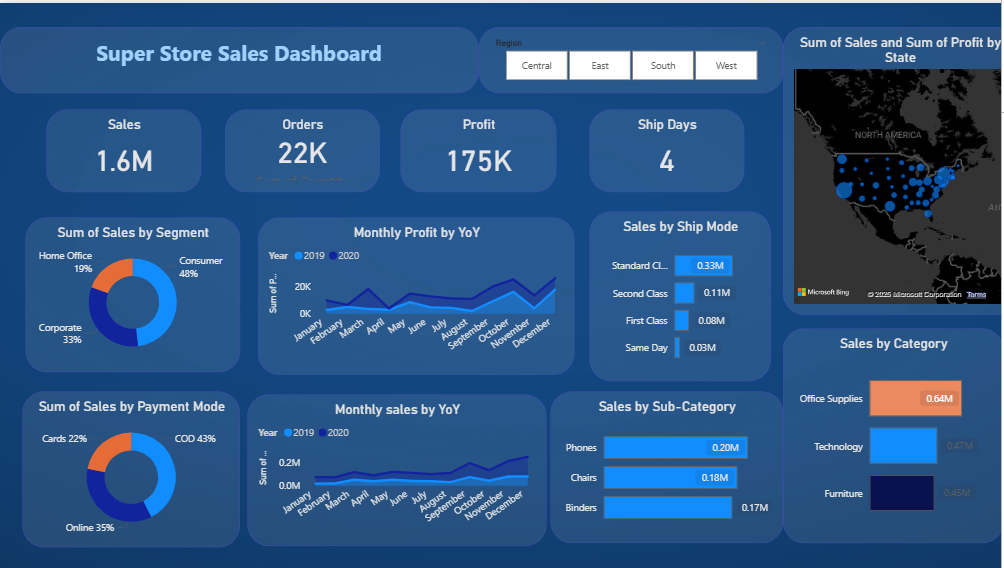

Layout of this report page (visuals, bound fields, positions):
{"tool":"powerbi","page":{"name":"Dashboard","canvas":[1280,720],"ordinal":0},"visuals":[{"type":"clusteredBarChart","title":" Sales by Category","fields":{"Category":["SuperStore_Sales_Dataset.Category"],"Y":["Sum(SuperStore_Sales_Dataset.Sales)"]},"box":[984.9,409.4,277.4,269.8],"z":0},{"type":"clusteredBarChart","title":" Sales by Sub-Category","fields":{"Y":["Sum(SuperStore_Sales_Dataset.Sales)"],"Category":["SuperStore_Sales_Dataset.Sub-Category"]},"box":[692.5,488.7,292.5,190.6],"z":1000},{"type":"clusteredBarChart","title":" Sales by Ship Mode","fields":{"Y":["Sum(SuperStore_Sales_Dataset.Sales)"],"Category":["SuperStore_Sales_Dataset.Ship Mode"]},"box":[741.5,262.3,228.3,213.2],"z":2000},{"type":"stackedAreaChart","title":"Monthly sales by YoY","fields":{"Y":["Sum(SuperStore_Sales_Dataset.Sales)"],"Category":["SuperStore_Sales_Dataset.Order Date.Variation.Date Hierarchy.Month","SuperStore_Sales_Dataset.Order Date.Variation.Date Hierarchy.Day"],"Series":["SuperStore_Sales_Dataset.Order Date.Variation.Date Hierarchy.Year"]},"box":[311.8,493.2,376.1,190.9],"z":3000},{"type":"stackedAreaChart","title":"Monthly Profit by YoY","fields":{"Series":["SuperStore_Sales_Dataset.Order Date.Variation.Date Hierarchy.Year"],"Y":["Sum(SuperStore_Sales_Dataset.Profit)"],"Category":["SuperStore_Sales_Dataset.Order Date.Variation.Date Hierarchy.Month","SuperStore_Sales_Dataset.Order Date.Variation.Date Hierarchy.Day"]},"box":[324.5,269.8,398.1,198.1],"z":4000},{"type":"map","fields":{"Category":["SuperStore_Sales_Dataset.State"],"Size":["Sum(SuperStore_Sales_Dataset.Sales)"]},"box":[984.9,30.2,294.3,362.3],"z":5000},{"type":"donutChart","fields":{"Category":["SuperStore_Sales_Dataset.Segment"],"Y":["Sum(SuperStore_Sales_Dataset.Sales)"]},"box":[32.1,269.8,269.8,194.3],"z":6000},{"type":"donutChart","fields":{"Y":["Sum(SuperStore_Sales_Dataset.Sales)"],"Category":["SuperStore_Sales_Dataset.Payment Mode"]},"box":[28.3,488.7,273.6,196.2],"z":7000},{"type":"slicer","fields":{"Values":["SuperStore_Sales_Dataset.Region"]},"box":[601.9,30.2,383,83],"z":8000},{"type":"textbox","box":[0,30.2,601.9,83],"z":9000},{"type":"card","title":"Sales","fields":{"Values":["Sum(SuperStore_Sales_Dataset.Sales)"]},"box":[58.5,134,194.3,103.8],"z":10000},{"type":"card","title":"Orders","fields":{"Values":["Sum(SuperStore_Sales_Dataset.Quantity)"]},"box":[283,134,194.3,103.8],"z":11000},{"type":"card","title":"Profit","fields":{"Values":["Sum(SuperStore_Sales_Dataset.Profit)"]},"box":[503.8,134,196.2,103.8],"z":12000},{"type":"card","title":"Ship Days","fields":{"Values":["Avg(SuperStore_Sales_Dataset.AvgDelivery)"]},"box":[741.5,134,194.3,103.8],"z":13000}]}

Visuals, with their boxes in screenshot pixels (x1, y1, x2, y2), scaled from the page's 1280x720 canvas onto the 1004x568 screenshot:
" Sales by Category" clusteredBarChart: region(773, 323, 990, 536)
" Sales by Sub-Category" clusteredBarChart: region(543, 386, 773, 536)
" Sales by Ship Mode" clusteredBarChart: region(582, 207, 761, 375)
"Monthly sales by YoY" stackedAreaChart: region(245, 389, 540, 540)
"Monthly Profit by YoY" stackedAreaChart: region(255, 213, 567, 369)
map - SuperStore_Sales_Dataset.State x Sum(SuperStore_Sales_Dataset.Sales): region(773, 24, 1003, 310)
donutChart - SuperStore_Sales_Dataset.Segment x Sum(SuperStore_Sales_Dataset.Sales): region(25, 213, 237, 366)
donutChart - Sum(SuperStore_Sales_Dataset.Sales) x SuperStore_Sales_Dataset.Payment Mode: region(22, 386, 237, 540)
slicer - SuperStore_Sales_Dataset.Region: region(472, 24, 773, 89)
textbox: region(0, 24, 472, 89)
"Sales" card: region(46, 106, 198, 188)
"Orders" card: region(222, 106, 374, 188)
"Profit" card: region(395, 106, 549, 188)
"Ship Days" card: region(582, 106, 734, 188)
